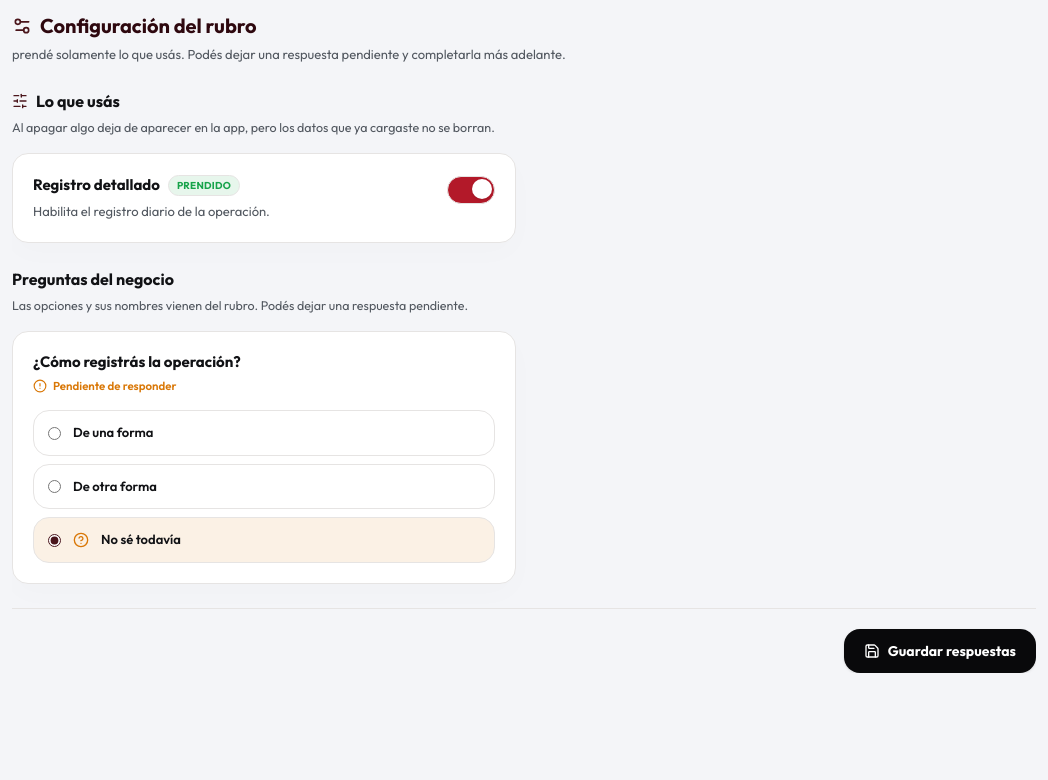
Test: configuración del rubro › deja una pregunta nueva sin responder sin disparar PUT ni DELETE
What coordinates should you click on to do the following:
click the button "Guardar respuestas"
I would click on:
 (940, 651)
Its box is [844, 629, 1036, 673].
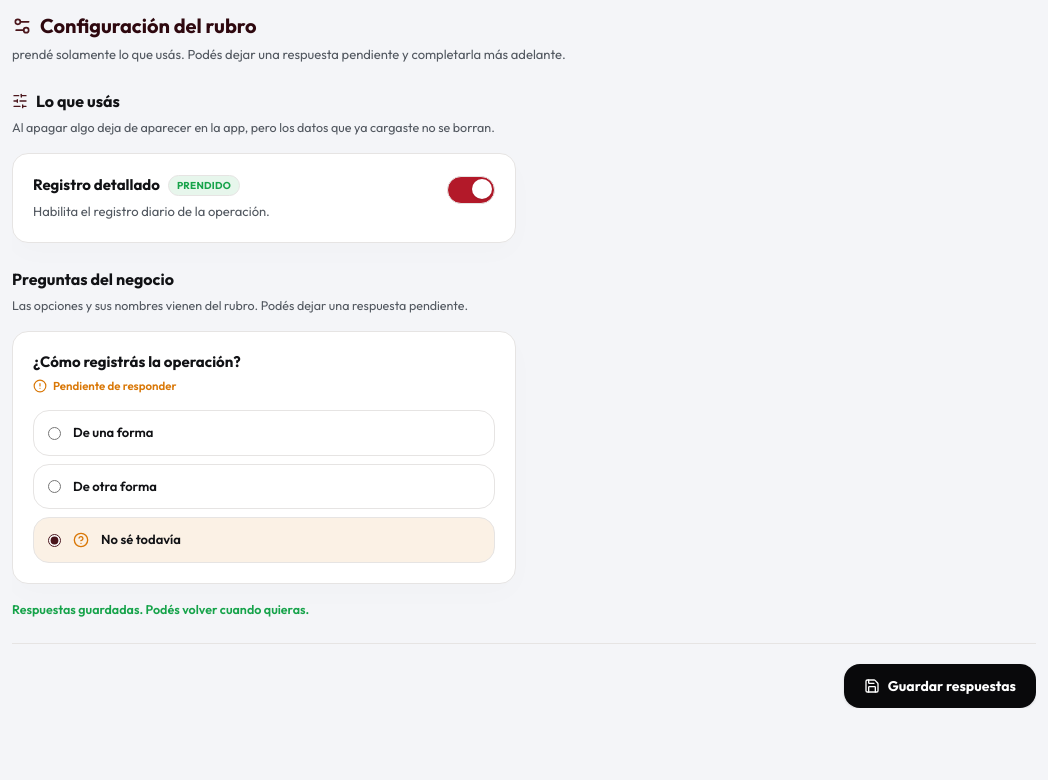
Expected: the text "Respuestas guardadas. Podés volver cuando quieras." is shown, [12, 601, 309, 617]
